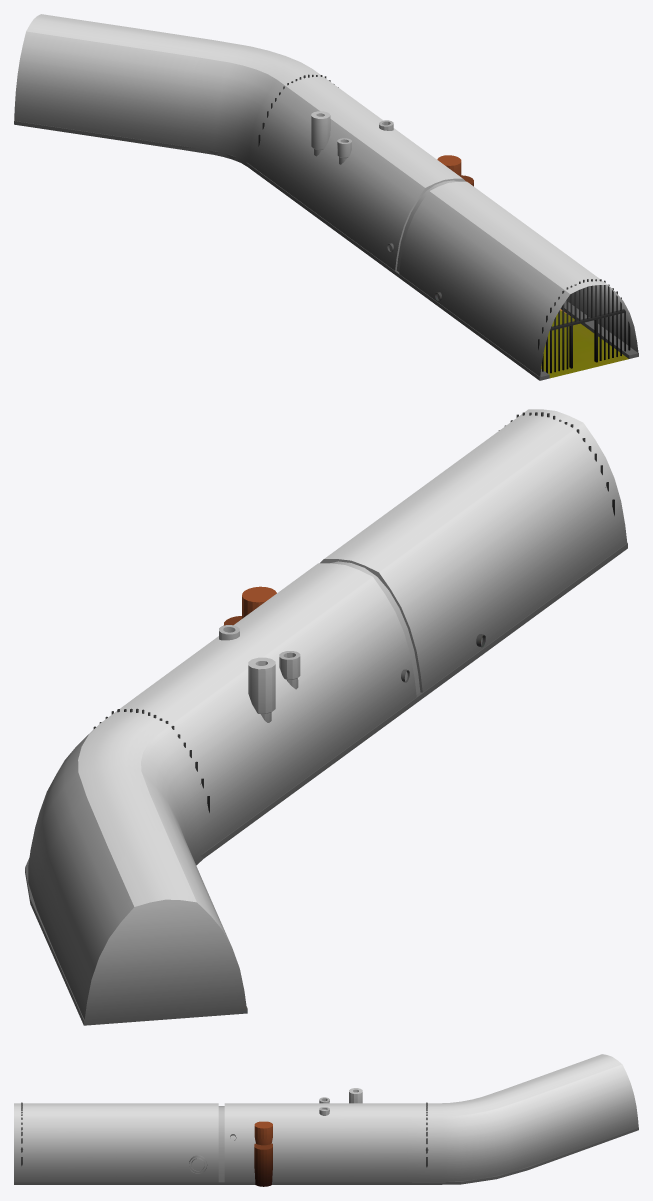
The model's file is Sewer_Scene_Updated.FBX.
3 views of the same model, one above another, from view 1: azimuth 30°, elevation 25°; view 2: azimuth 150°, elevation 25°; view 3: azimuth 270°, elevation 25° (orthographic). The views are drawn at different scales.
Visible parts, largest first — view 1: Walls; view 2: Walls; view 3: Walls.
Boxes of the visible parts, x1=… form: Walls: x1=14, y1=14, x2=638, y2=380; Walls: x1=25, y1=409, x2=627, y2=1025; Walls: x1=14, y1=1054, x2=638, y2=1186.
Size of the model in its own units: 1870 by 678 by 5903.
1 material, 1 textured.
